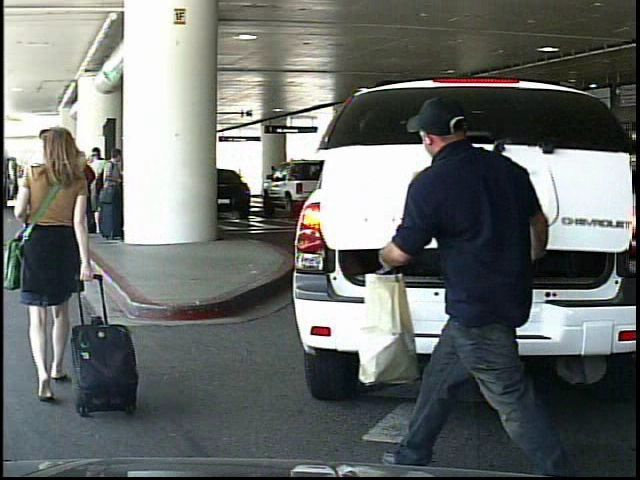person: (380, 59, 564, 472), (4, 121, 112, 421), (263, 161, 283, 208)
